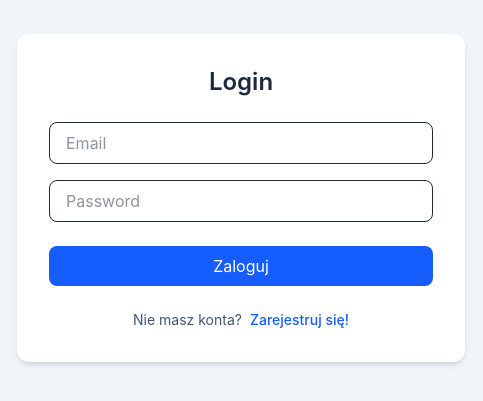
Test: LoginPage UI › shows error message when login fails
Type "a@a.pl" into the field with placeholder "Email" at (241, 143), box [49, 122, 433, 164]
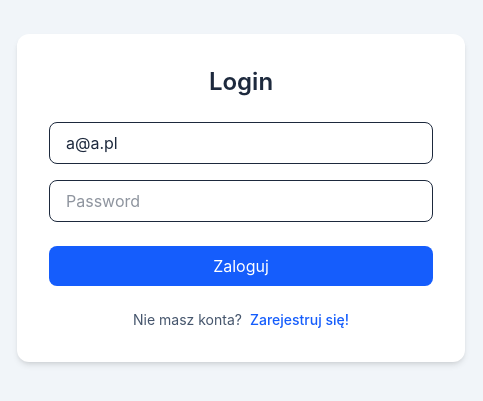
Type "123456" into the password field with placeholder "Password" at (241, 201), box [49, 180, 433, 222]
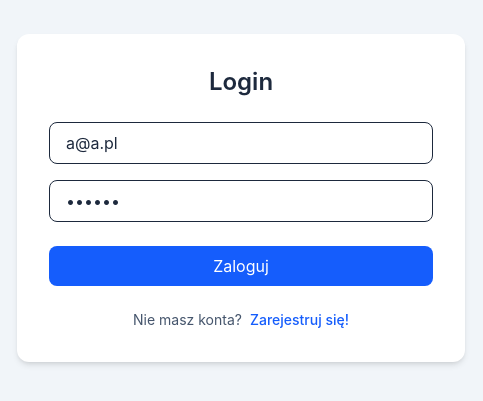
Click the button "Zaloguj" at (241, 266), box [49, 246, 433, 286]
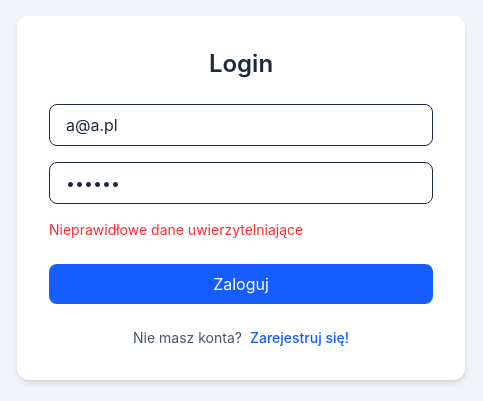
expect the message "Nieprawidłowe dane uwierzytelniające" is shown: met, box [49, 221, 303, 238]
